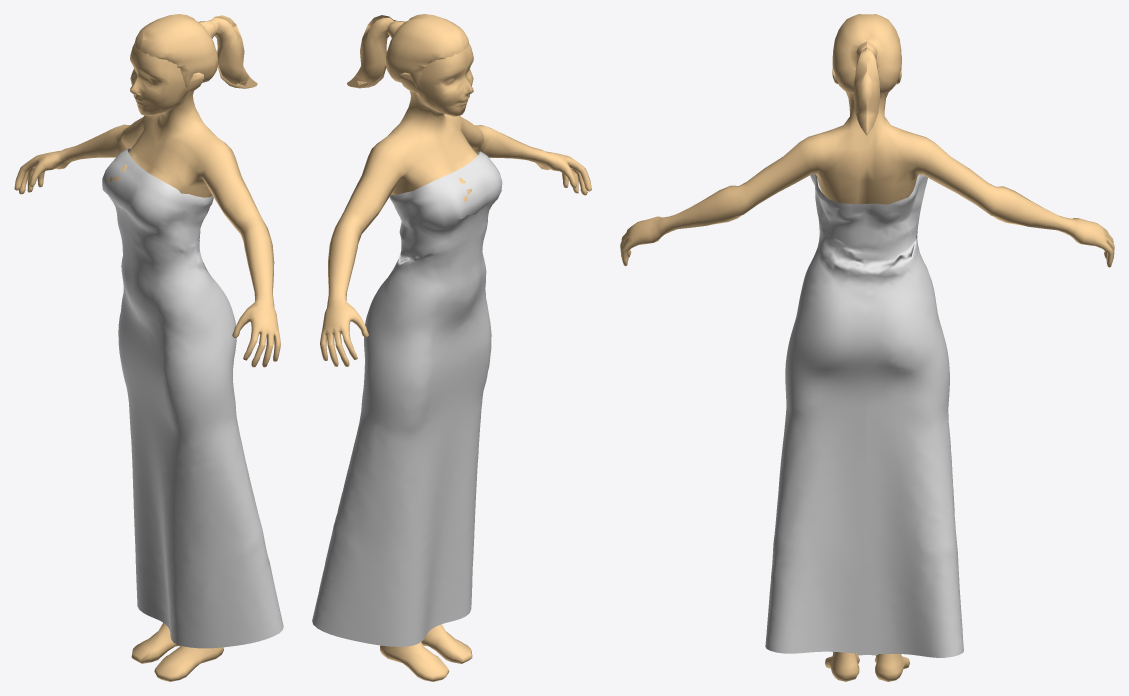
The model's file is Goddess Gown.fbx.
3 views of the same model, side by side, from view 1: azimuth 30°, elevation 25°; view 2: azimuth 150°, elevation 25°; view 3: azimuth 270°, elevation 25° (orthographic).
Parts seen in each view (by area): view 1: Strapless_3, LOWGirl; view 2: Strapless_3, LOWGirl; view 3: Strapless_3, LOWGirl.
Boxes of the visible parts, x1,y1,x2,y2 form: Strapless_3: (102,148,283,648); LOWGirl: (14,14,280,681); Strapless_3: (312,151,502,646); LOWGirl: (320,14,591,681); Strapless_3: (765,174,963,657); LOWGirl: (620,14,1114,681).
Size of the model in its own units: 41.98 by 187 by 127.
